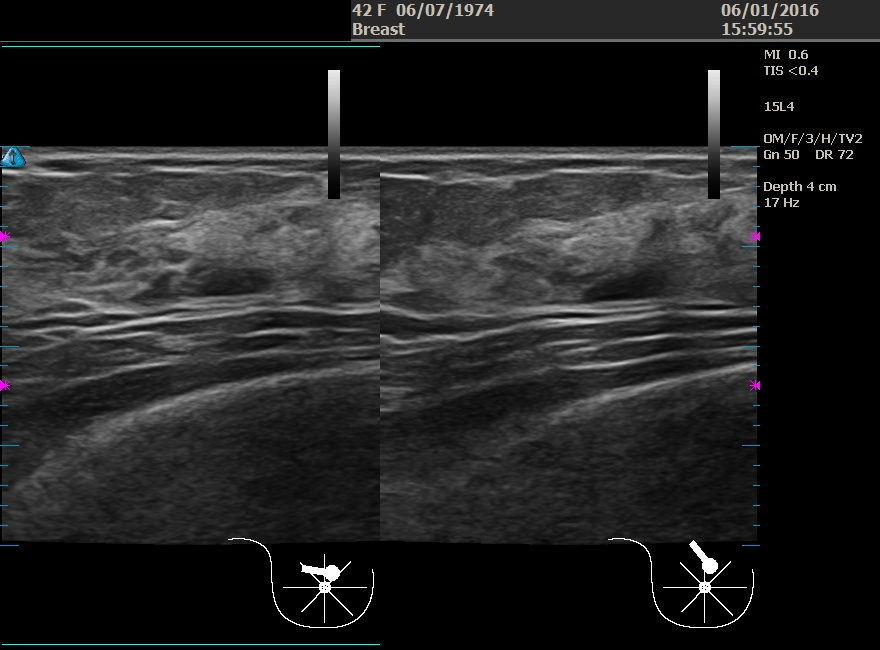BIRADS_2: (84, 204, 284, 404), (493, 240, 693, 440)
